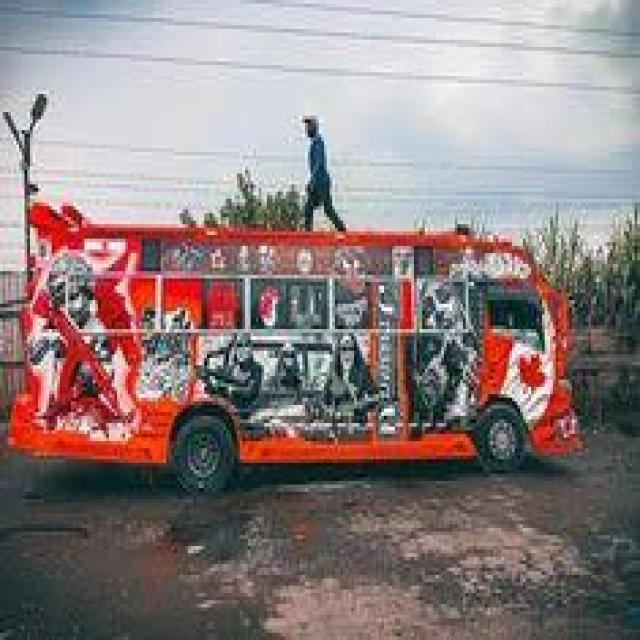bus: (16, 174, 603, 556)
